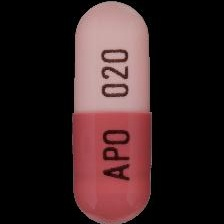50436-3127: (0, 0, 224, 224)
